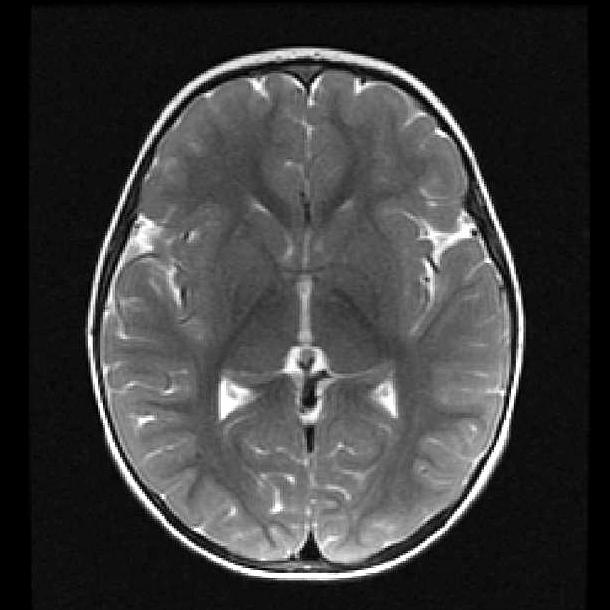Normal_Brain: (46, 12, 533, 610)
